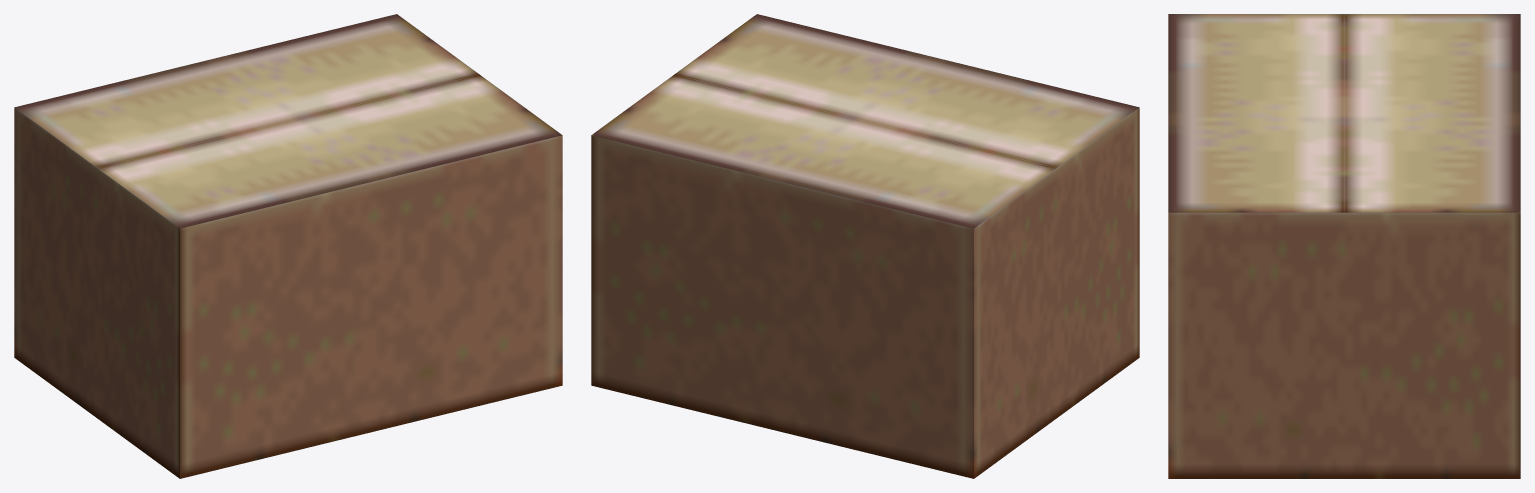
File: Poly_SF_Outside_B_Cardboard_Box_01.obj
3 renders of one model, left to right at view 1: azimuth 30°, elevation 25°; view 2: azimuth 150°, elevation 25°; view 3: azimuth 270°, elevation 25°, orthographic. The views are drawn at different scales.
Visible parts, largest first — view 1: Cube.001; view 2: Cube.001; view 3: Cube.001.
Boxes of the visible parts, x1,y1,x2,y2 form: Cube.001: [14, 14, 562, 478]; Cube.001: [591, 14, 1139, 478]; Cube.001: [1168, 14, 1520, 478].
Bounding box in the file's own units: 0.8 × 0.5 × 0.6.
1 material, 1 textured.
